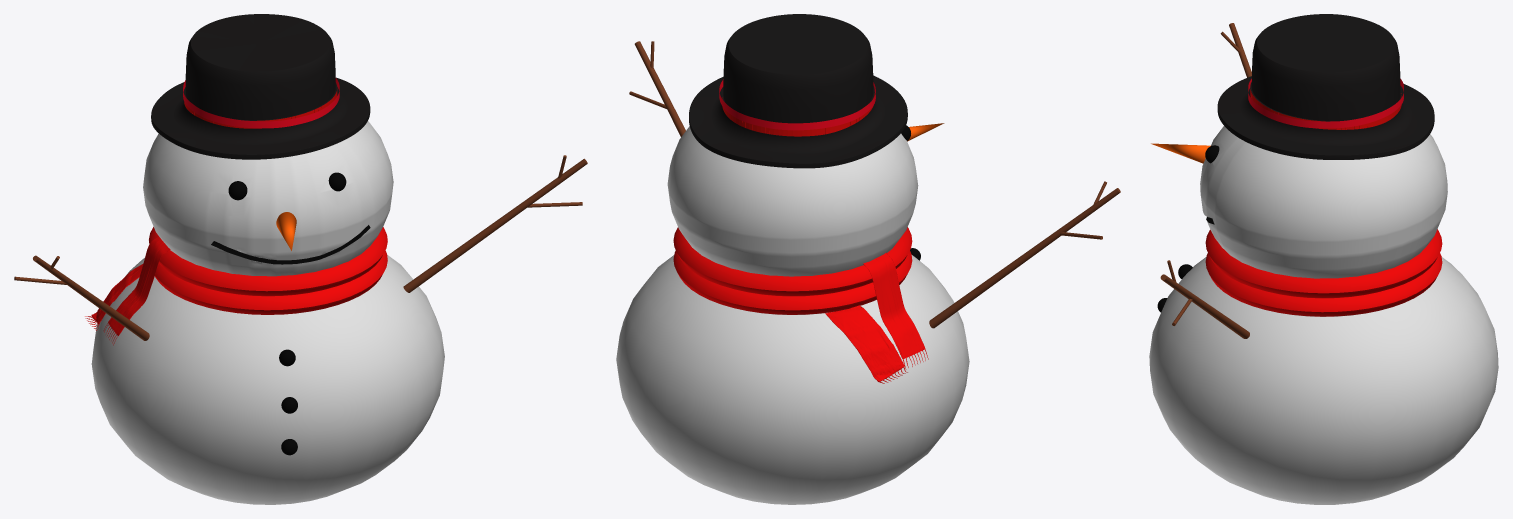
The model's file is snowman.glb.
The picture shows the model from 3 angles, left to right: view 1: azimuth 30°, elevation 25°; view 2: azimuth 150°, elevation 25°; view 3: azimuth 270°, elevation 25°; orthographic projection.
Parts seen in each view (by area): view 1: Body_Sphere.001, Hat_Sphere.002, Scarf_Cube.001, Left_Hand_Cylinder.005, Right_Hand_Cylinder.006, Surface, Button_Sphere.005; view 2: Body_Sphere.001, Hat_Sphere.002, Scarf_Cube.001, Right_Hand_Cylinder.006, Surface, Left_Hand_Cylinder.005; view 3: Body_Sphere.001, Hat_Sphere.002, Surface, Left_Hand_Cylinder.005, Nose_Cone, Right_Hand_Cylinder.006.
Boxes of the visible parts, bbox=[...] form: Body_Sphere.001: bbox=[91, 121, 444, 504]; Hat_Sphere.002: bbox=[151, 14, 370, 159]; Scarf_Cube.001: bbox=[85, 236, 170, 345]; Left_Hand_Cylinder.005: bbox=[403, 155, 587, 292]; Right_Hand_Cylinder.006: bbox=[14, 255, 149, 340]; Surface: bbox=[183, 78, 339, 128]; Button_Sphere.005: bbox=[279, 349, 297, 455]; Body_Sphere.001: bbox=[616, 126, 969, 504]; Hat_Sphere.002: bbox=[689, 14, 907, 168]; Scarf_Cube.001: bbox=[825, 253, 928, 383]; Right_Hand_Cylinder.006: bbox=[929, 181, 1120, 328]; Surface: bbox=[719, 79, 875, 130]; Left_Hand_Cylinder.005: bbox=[629, 41, 685, 136]; Body_Sphere.001: bbox=[1149, 126, 1498, 504]; Hat_Sphere.002: bbox=[1217, 14, 1434, 159]; Surface: bbox=[1248, 78, 1403, 128]; Left_Hand_Cylinder.005: bbox=[1160, 260, 1249, 338]; Nose_Cone: bbox=[1151, 143, 1210, 163]; Right_Hand_Cylinder.006: bbox=[1220, 23, 1251, 77].
Size of the model in its own units: 5.47 by 4.45 by 3.21.
